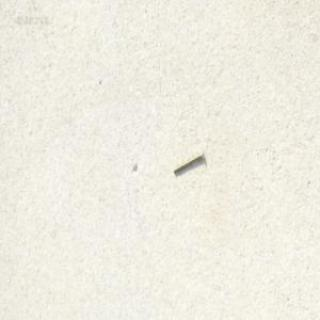Bolttrack_idkeyframe: (171, 148, 201, 173)
